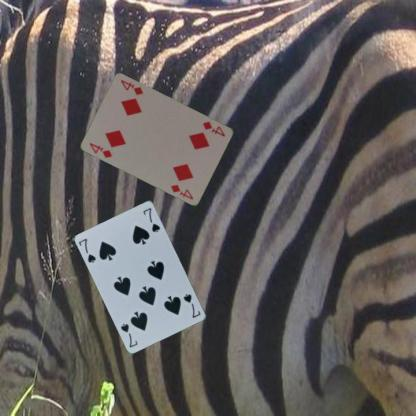4d: (199, 118, 226, 139), (87, 140, 113, 159)
7s: (76, 235, 97, 264), (180, 291, 202, 318)
